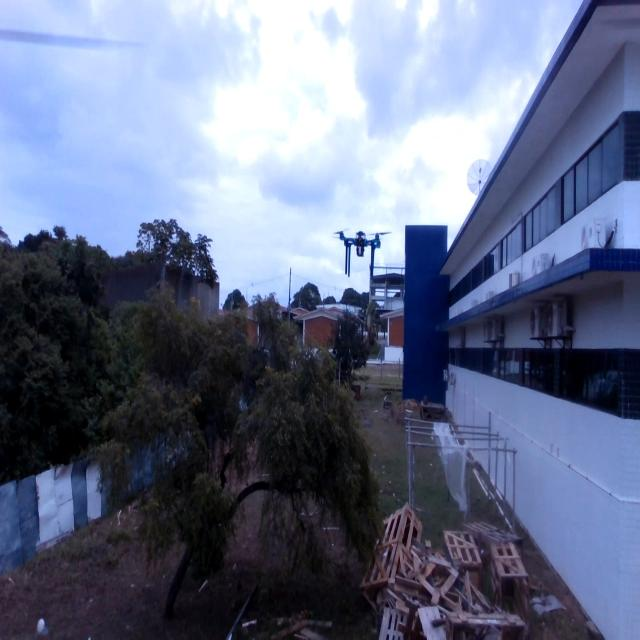-uav-: (327, 218, 395, 286)
